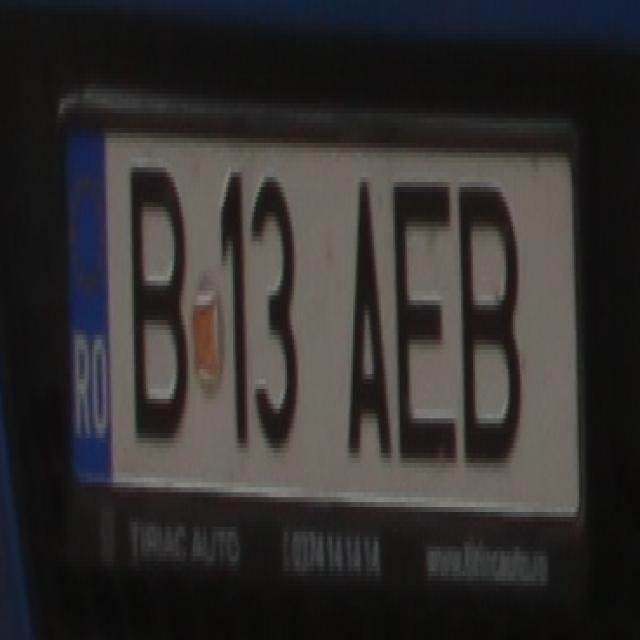1: (217, 158, 249, 448)
3: (252, 162, 299, 448)
A: (346, 167, 393, 468)
B: (454, 172, 523, 488), (120, 153, 190, 448)
E: (393, 148, 456, 482)
